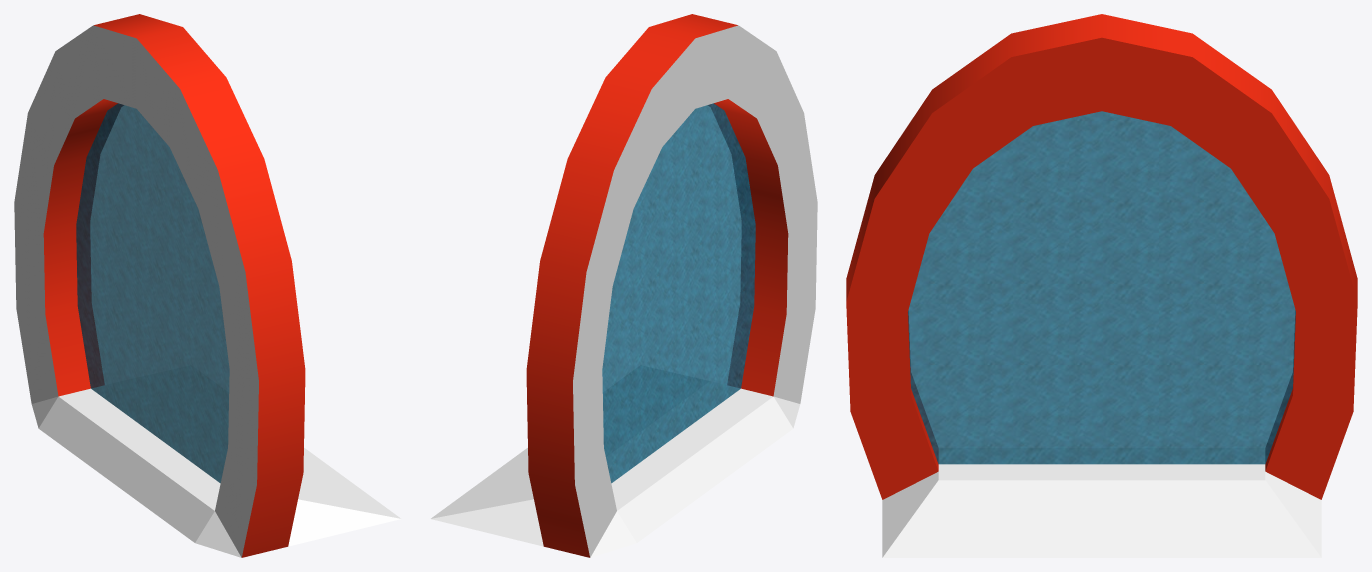
Rendered from Portal.dae.
3 views of the same model, side by side, from view 1: azimuth 30°, elevation 25°; view 2: azimuth 150°, elevation 25°; view 3: azimuth 270°, elevation 25° (orthographic). The views are drawn at different scales.
Parts seen in each view (by area): view 1: SketchUp (×3); view 2: SketchUp (×3); view 3: SketchUp (×3).
Boxes of the visible parts, left/top/right/bottom form: SketchUp (×3): left=14, top=14, right=400, bottom=557; SketchUp (×3): left=431, top=14, right=817, bottom=557; SketchUp (×3): left=846, top=14, right=1357, bottom=557.
Size of the model in its own units: 19.34 by 45.6 by 45.5.
